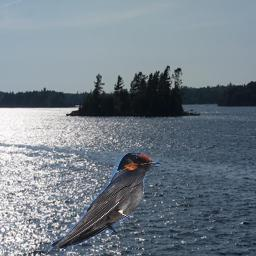Swallow: (50, 152, 161, 249)
